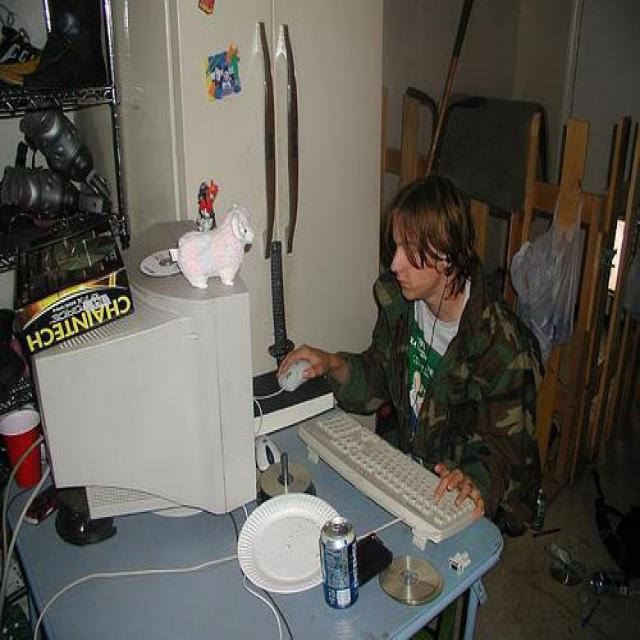Sheep: (175, 203, 255, 289)
